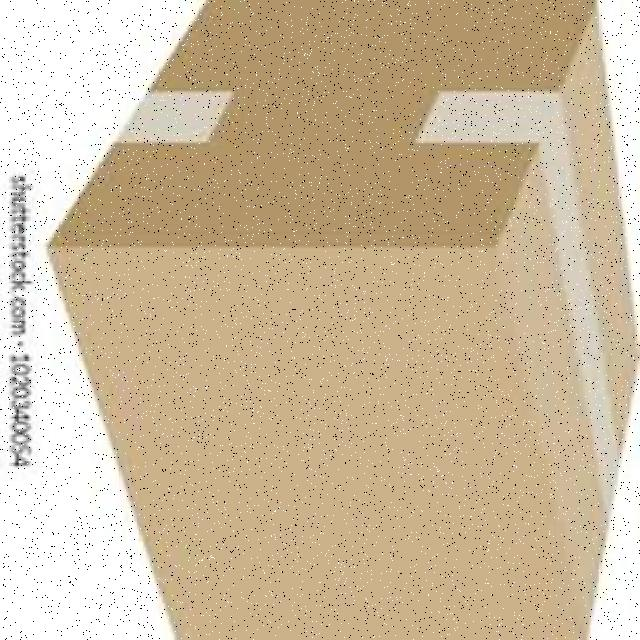normal: (39, 4, 625, 640)
